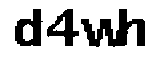4: (46, 6, 82, 50)
d: (7, 5, 43, 52)
h: (120, 5, 147, 51)
w: (80, 17, 122, 51)
